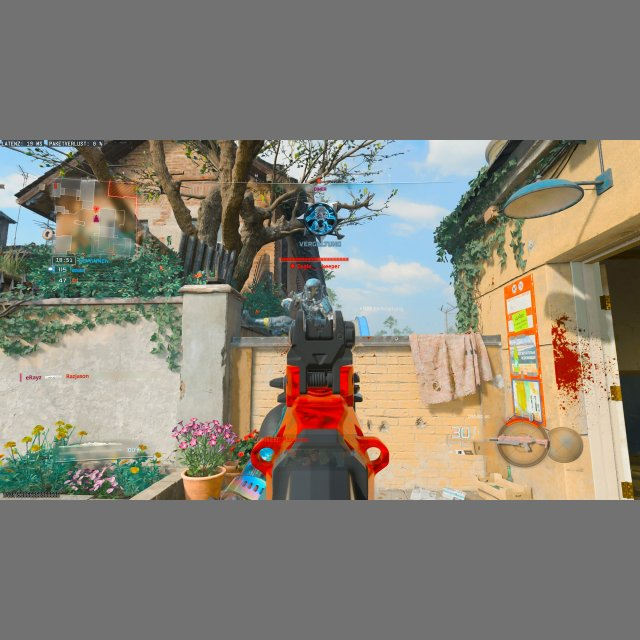head: (304, 277, 323, 298)
player: (281, 276, 333, 321)
